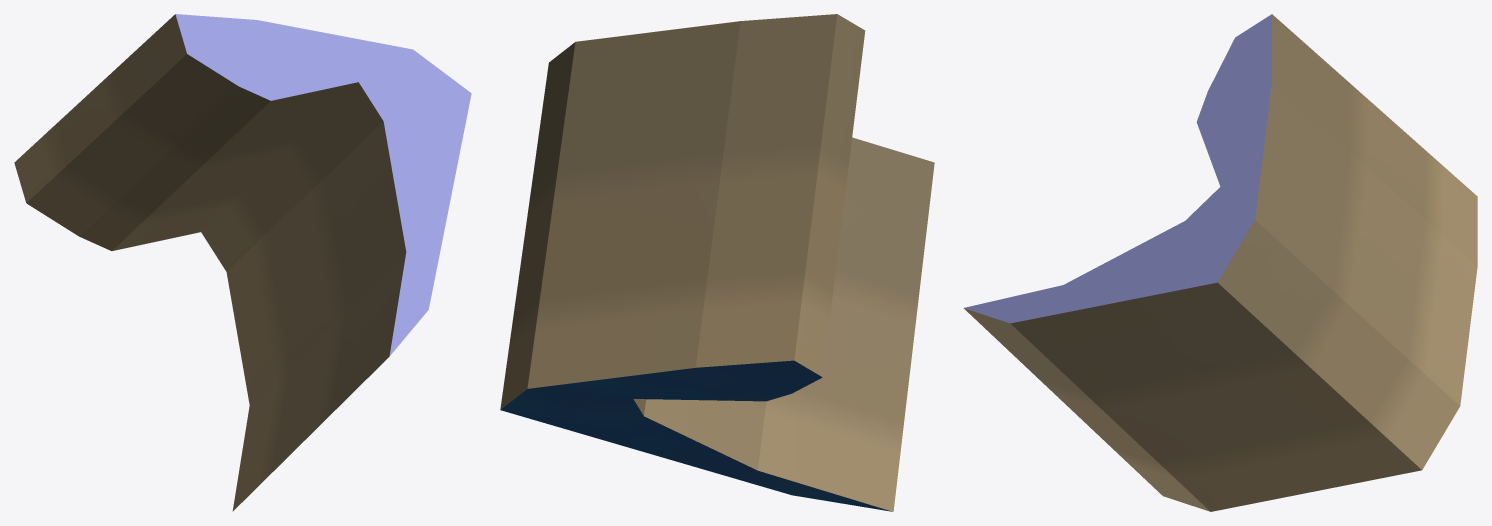
File: 0673_Croatia.glb
3 renders of one model, left to right at view 1: azimuth 30°, elevation 25°; view 2: azimuth 150°, elevation 25°; view 3: azimuth 270°, elevation 25°, orthographic. The views are drawn at different scales.
Parts seen in each view (by area): view 1: part_0; view 2: part_0; view 3: part_0.
Boxes of the visible parts, box(x1,y1,x2,y2) form: part_0: box(14, 14, 471, 511); part_0: box(500, 14, 934, 511); part_0: box(963, 14, 1477, 511).
Size of the model in its own units: 0.2528 by 0.3287 by 0.3194.
1 material, 1 textured.
